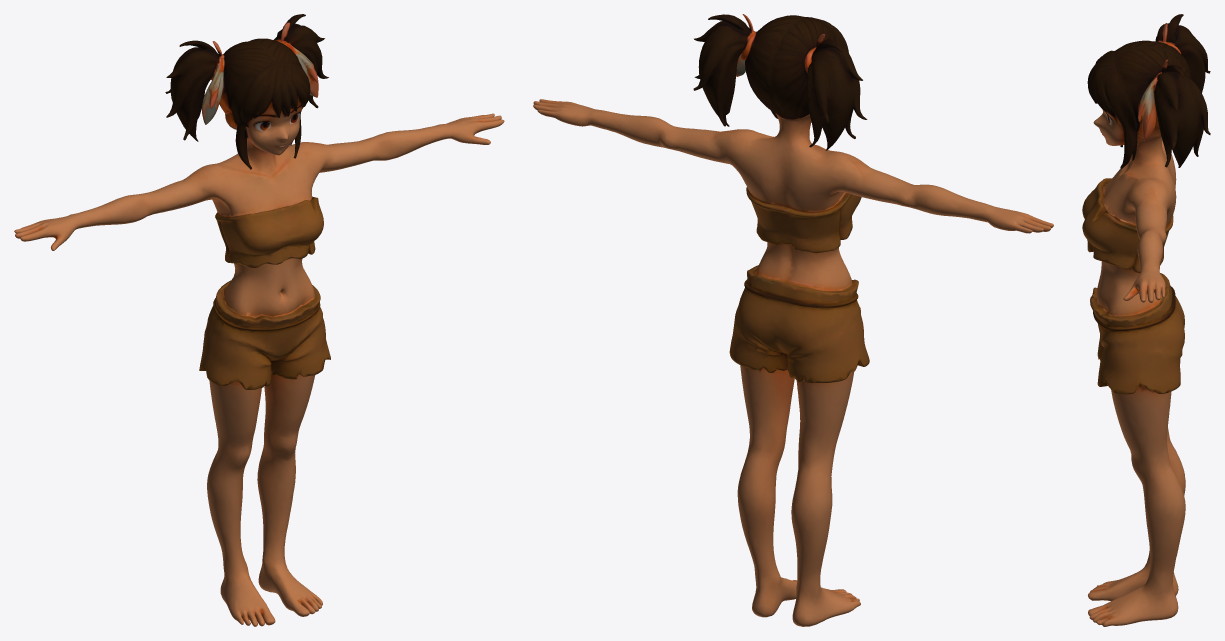
The model's file is lala.fbx.
3 views of the same model, side by side, from view 1: azimuth 30°, elevation 25°; view 2: azimuth 150°, elevation 25°; view 3: azimuth 270°, elevation 25° (orthographic). The views are drawn at different scales.
Visible parts, largest first — view 1: tripo_node_07f98ac9; view 2: tripo_node_07f98ac9; view 3: tripo_node_07f98ac9.
Part boxes in pixels (<box>): tripo_node_07f98ac9: <box>14,14,504,626</box>; tripo_node_07f98ac9: <box>533,14,1053,626</box>; tripo_node_07f98ac9: <box>1082,14,1210,626</box>.
Size of the model in its own units: 90.46 by 20.49 by 99.92.
Materials: 1 (1 with a texture image).
